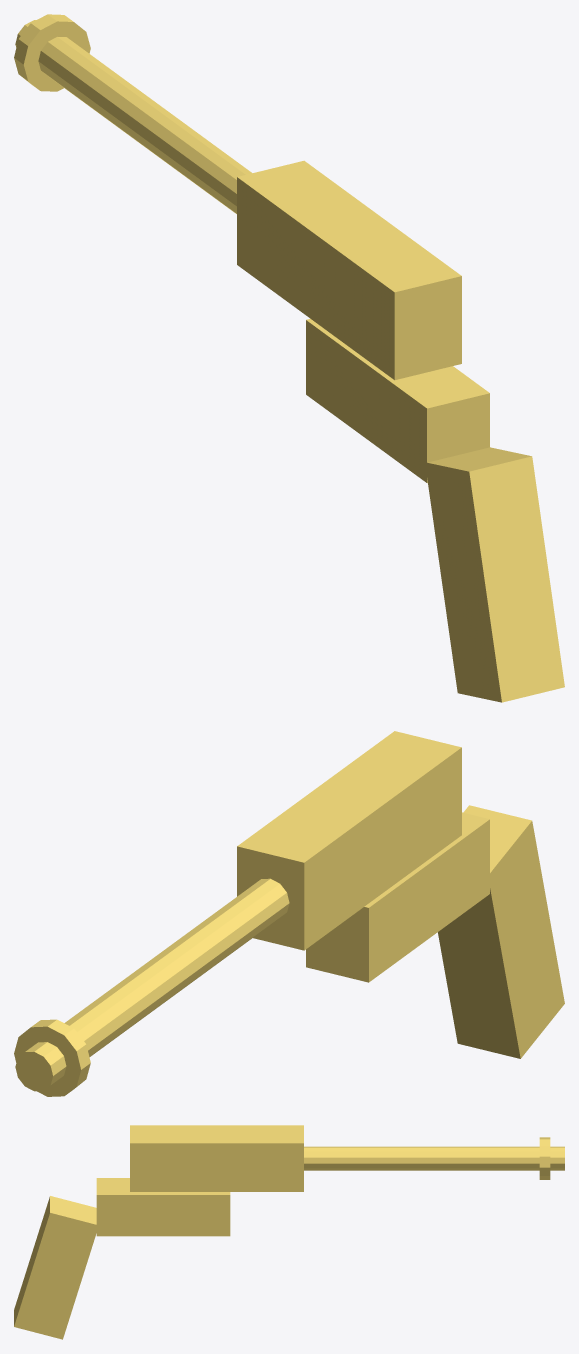
Rendered from golden.glb.
3 views of the same model, one above another, from view 1: azimuth 30°, elevation 25°; view 2: azimuth 150°, elevation 25°; view 3: azimuth 270°, elevation 25° (orthographic). The views are drawn at different scales.
Visible parts, largest first — view 1: golden; view 2: golden; view 3: golden.
Boxes of the visible parts, x1,y1,x2,y2 form: golden: (14,14,564,702); golden: (14,731,564,1096); golden: (14,1125,564,1339).
Size of the model in its own units: 0.032 by 0.1623 by 0.4118.
